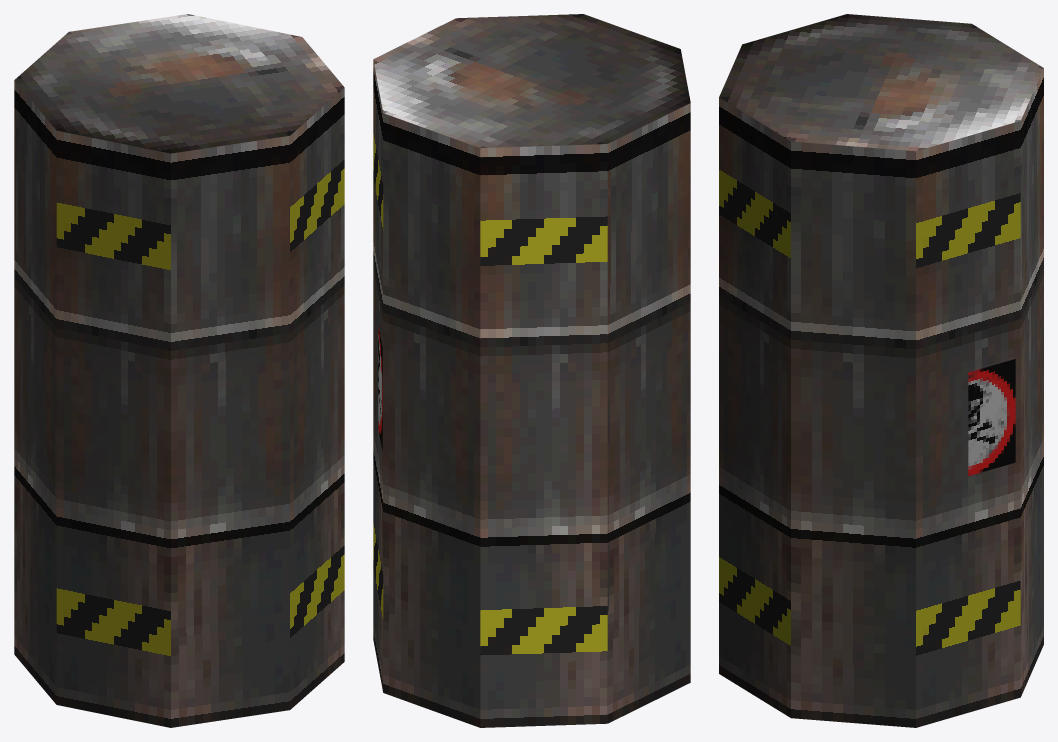
The model's file is primary_101.glb.
The picture shows the model from 3 angles, left to right: view 1: azimuth 30°, elevation 25°; view 2: azimuth 150°, elevation 25°; view 3: azimuth 270°, elevation 25°; orthographic projection.
Visible parts, largest first — view 1: Object; view 2: Object; view 3: Object.
Part boxes in pixels (x1=…): Object: x1=14, y1=14, x2=344, y2=727; Object: x1=373, y1=14, x2=690, y2=727; Object: x1=719, y1=14, x2=1043, y2=727.
Size of the model in its own units: 1.53 by 2.99 by 1.53.
Materials: 9 (9 with a texture image).
